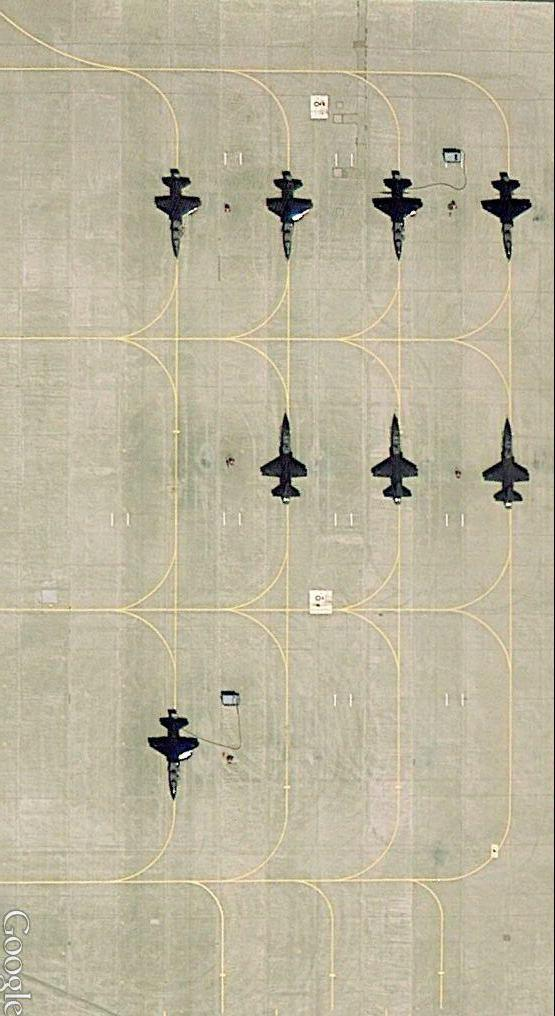plane: (477, 171, 534, 268), (368, 414, 425, 506), (371, 169, 424, 267), (260, 169, 314, 264), (150, 709, 202, 805), (155, 162, 199, 263), (484, 417, 530, 513), (262, 416, 307, 506)
